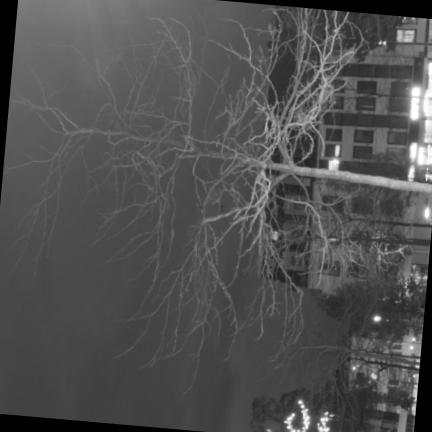Shahed: (220, 200, 224, 211)
